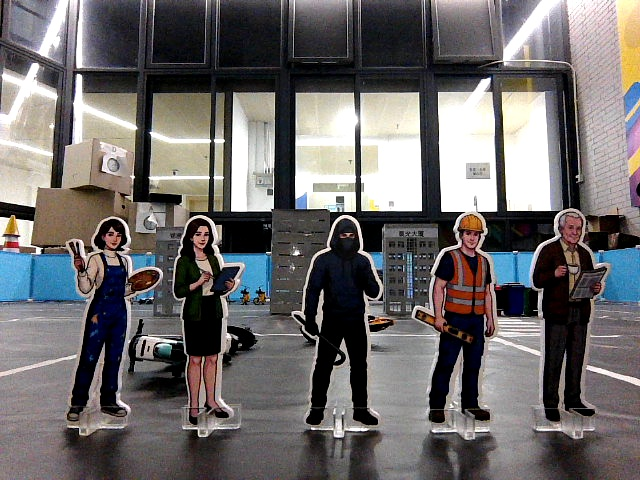community_person: (57, 208, 162, 441), (410, 207, 508, 444), (526, 203, 615, 443), (168, 207, 251, 443)
outsider: (288, 207, 394, 443)
